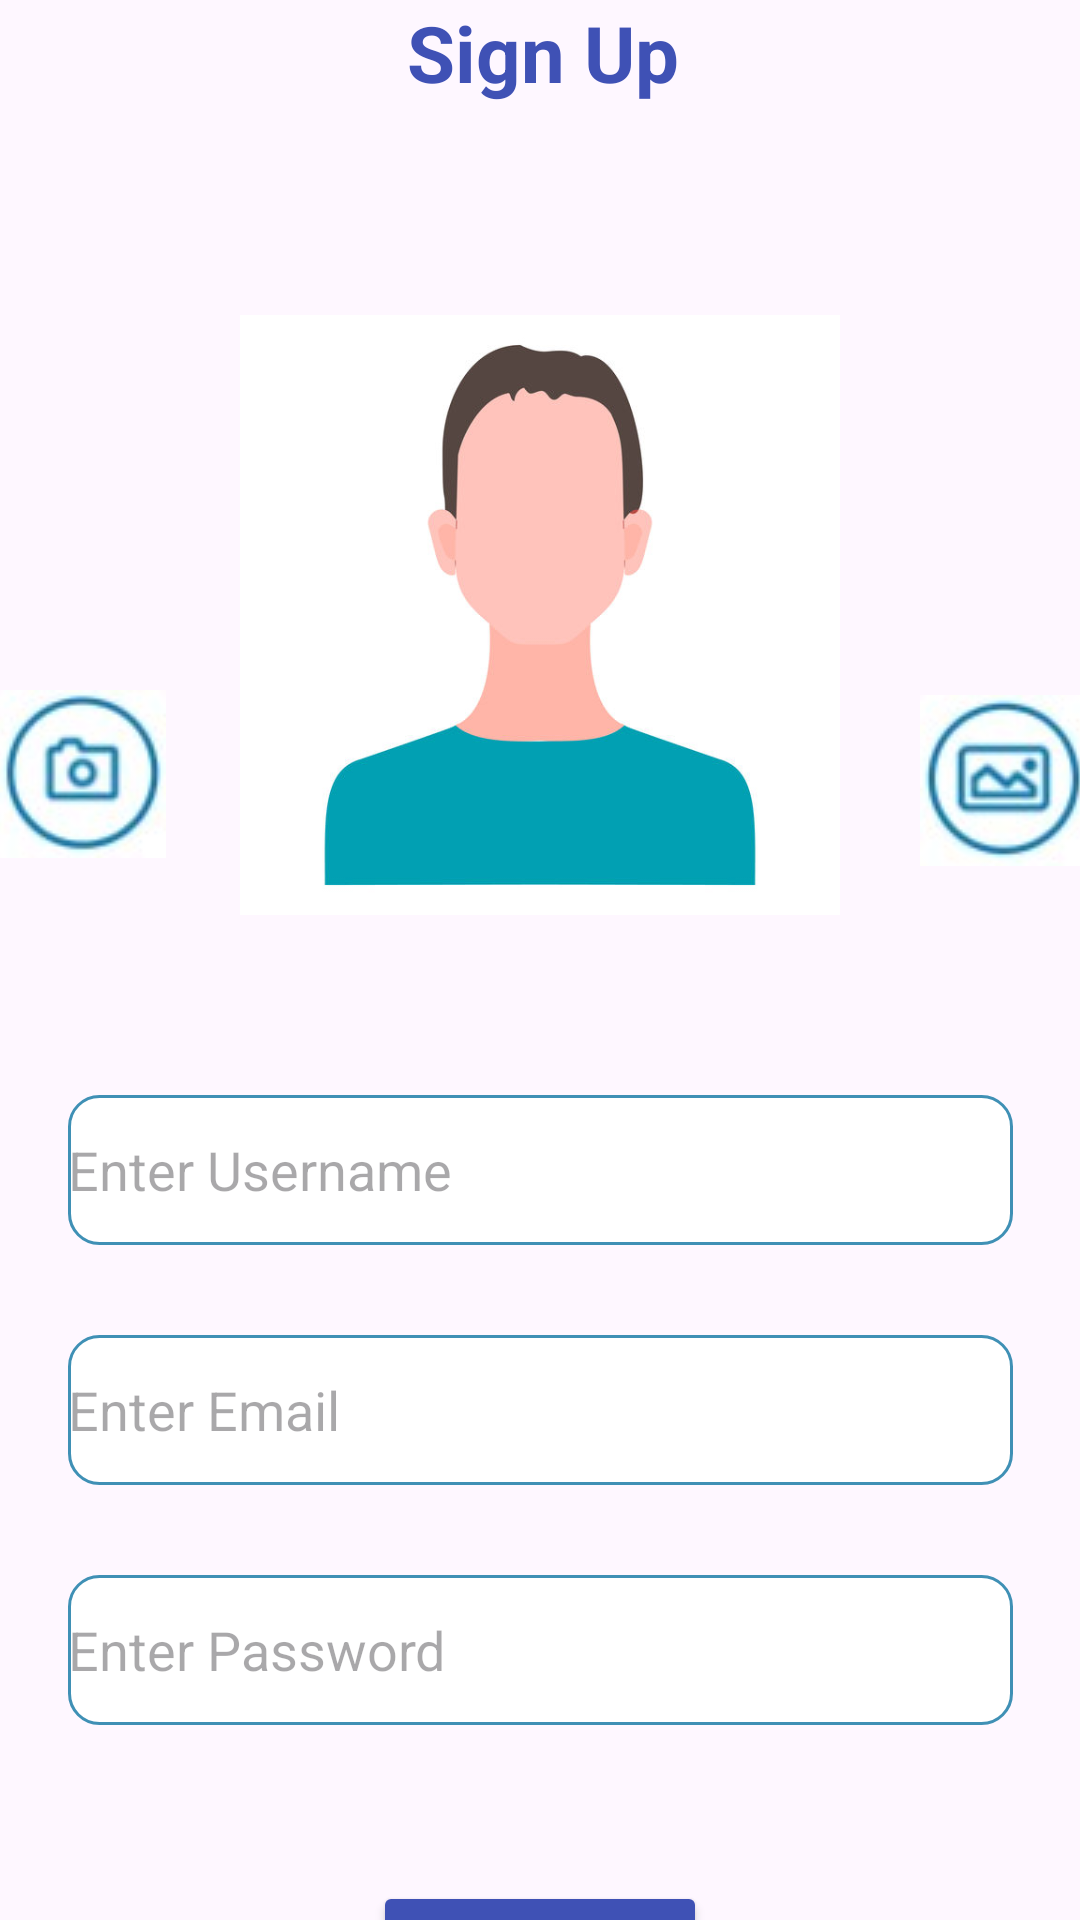

Locate icon controls on the screen. Image size 1080*1920, boxes as (x1, y1, x2, y2).
Camera button for taking a profile picture: (4, 695, 161, 852)
Gallery button for uploading a profile picture: (925, 700, 1080, 858)
